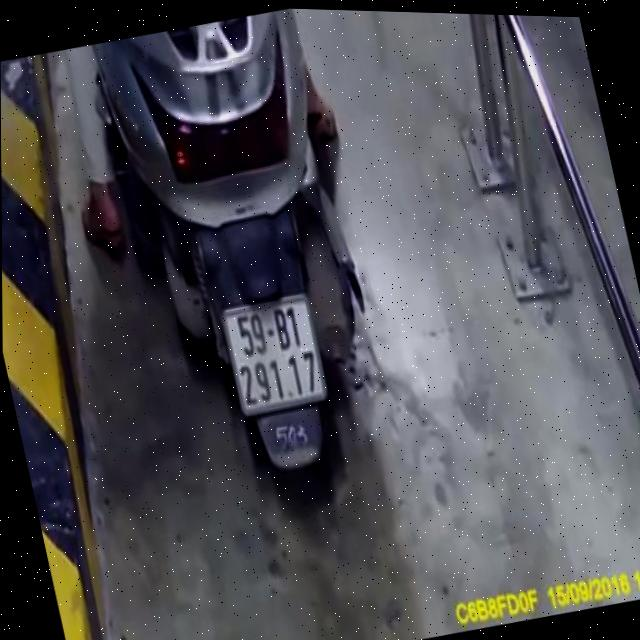motorcycle: (74, 2, 416, 534)
plate: (214, 285, 336, 423)
